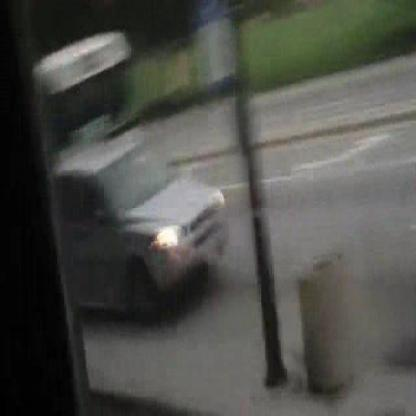other: (148, 219, 182, 258), (208, 182, 228, 215)
